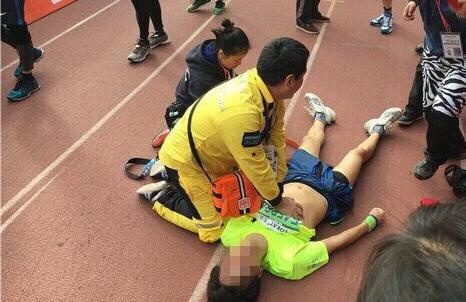falling: (186, 82, 387, 302)
